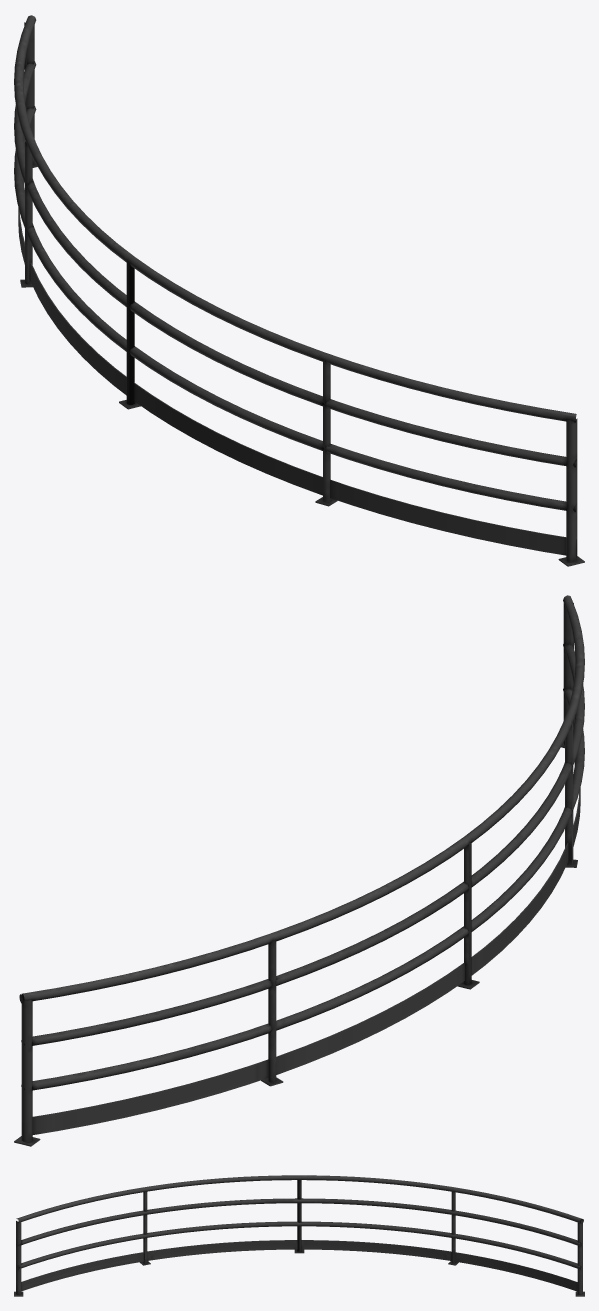
The picture shows the model from 3 angles, top to bottom: view 1: azimuth 30°, elevation 25°; view 2: azimuth 150°, elevation 25°; view 3: azimuth 270°, elevation 25°; orthographic projection. The views are drawn at different scales.
Parts seen in each view (by area): view 1: body0_model0_lod0_mesh0; view 2: body0_model0_lod0_mesh0; view 3: body0_model0_lod0_mesh0.
Part boxes in pixels (left/top/right/bottom): body0_model0_lod0_mesh0: left=14, top=15, right=584, bottom=566; body0_model0_lod0_mesh0: left=14, top=595, right=584, bottom=1146; body0_model0_lod0_mesh0: left=14, top=1175, right=584, bottom=1296.
Bounding box in the file's own units: 43.53 × 33.07 × 224.
Materials: 1 (1 with a texture image).
